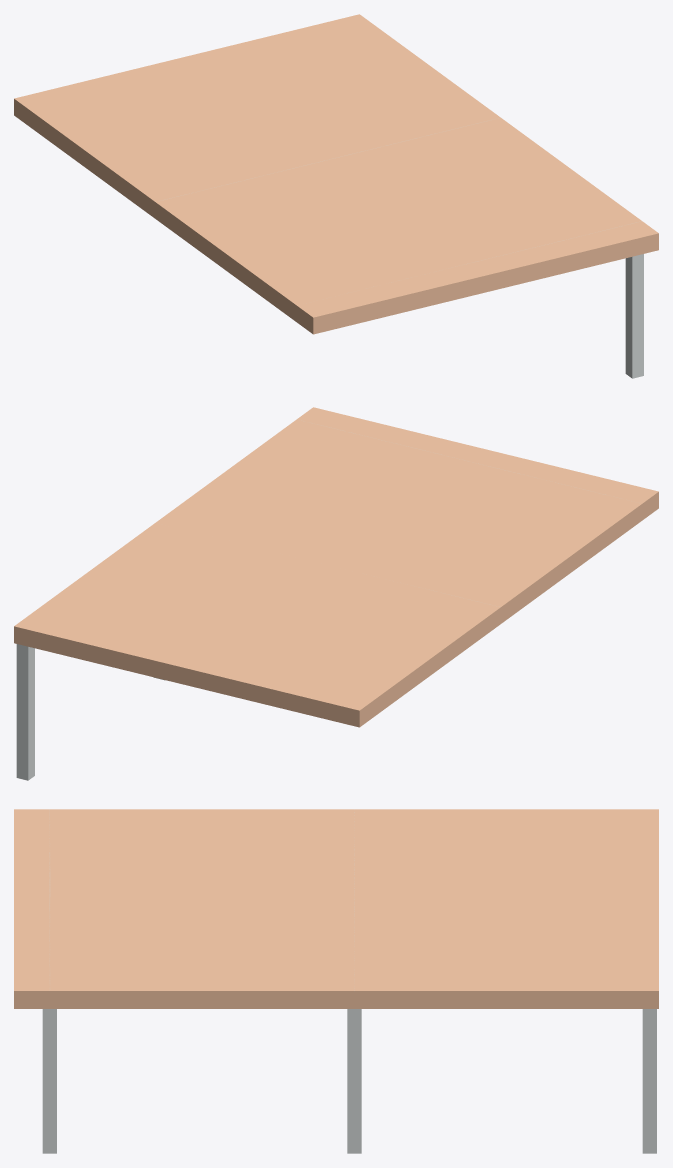
The model's file is desk-row-d2.glb.
3 renders of one model, top to bottom at view 1: azimuth 30°, elevation 25°; view 2: azimuth 150°, elevation 25°; view 3: azimuth 270°, elevation 25°, orthographic. The views are drawn at different scales.
Visible parts, largest first — view 1: desktop, shared-corner-leg; view 2: desktop, shared-corner-leg; view 3: desktop, shared-corner-leg (×3).
Part boxes in pixels (bbox=[...]): desktop: bbox=[14, 14, 658, 334]; shared-corner-leg: bbox=[625, 254, 643, 378]; desktop: bbox=[14, 407, 658, 727]; shared-corner-leg: bbox=[16, 644, 34, 780]; desktop: bbox=[14, 809, 658, 1008]; shared-corner-leg (×3): bbox=[42, 1009, 656, 1153].
Bounding box in the file's own units: 3 × 1.26 × 4.5.
1 material, 1 textured.
